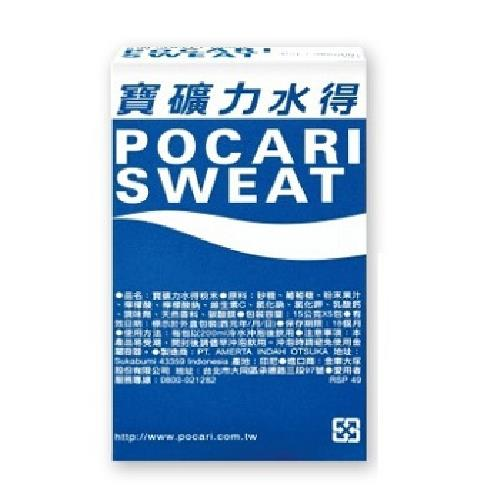POCARI SWEAT: (112, 68, 364, 276)
